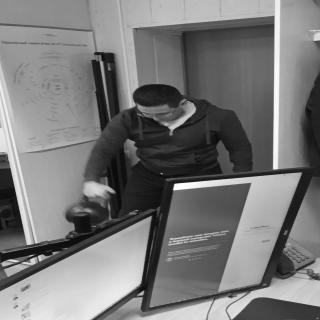kettlebell: (64, 193, 114, 225)
